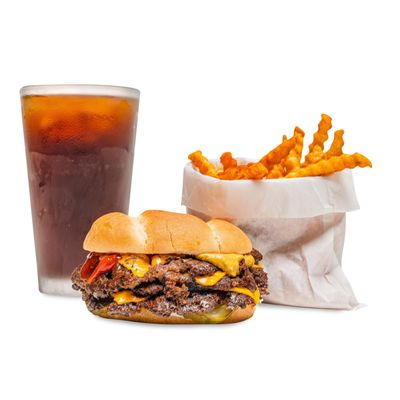pizza: (19, 83, 141, 298)
soup: (72, 209, 269, 325)
